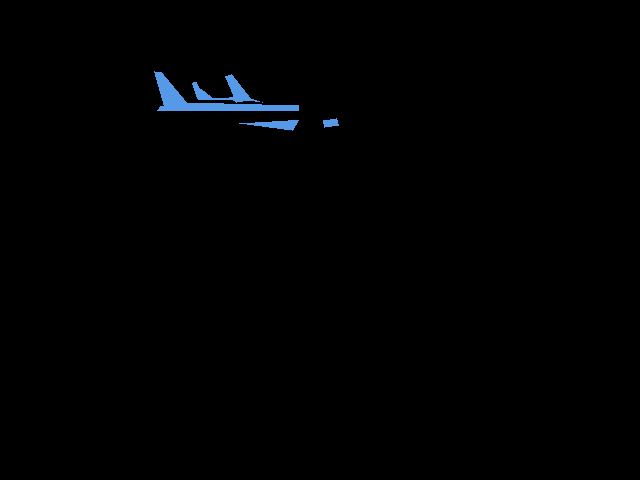Airplane: (154, 71, 339, 131), (225, 74, 262, 102), (192, 82, 235, 102)
